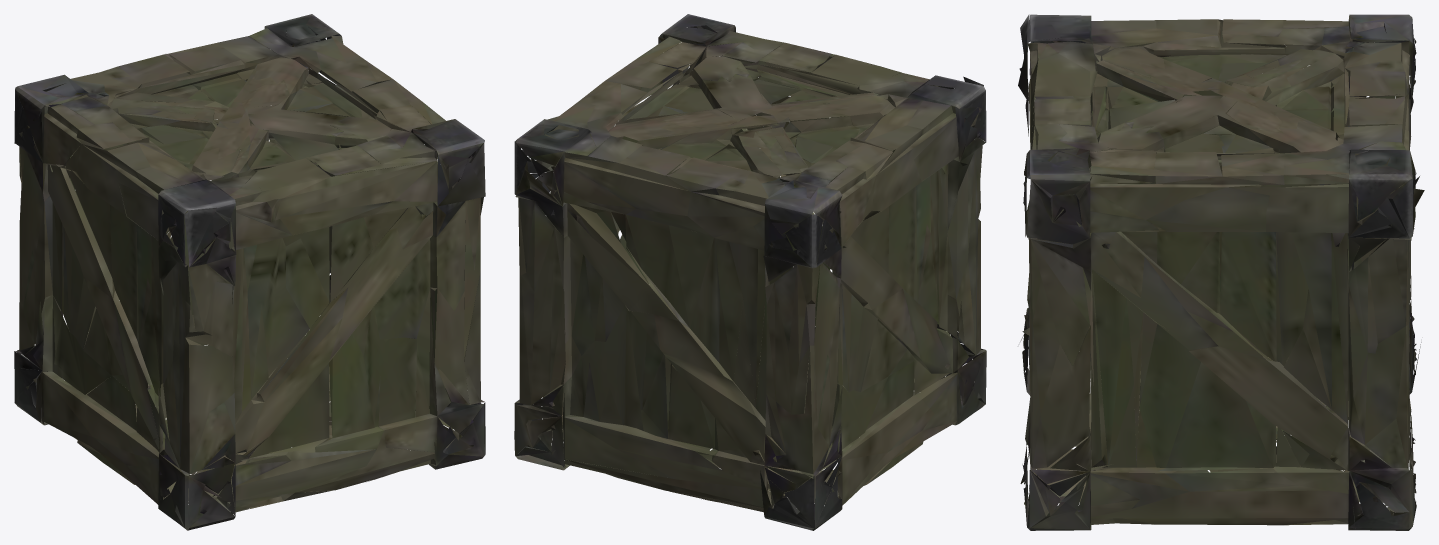
Rendered from crate_wood.glb.
3 views of the same model, side by side, from view 1: azimuth 30°, elevation 25°; view 2: azimuth 150°, elevation 25°; view 3: azimuth 270°, elevation 25° (orthographic). The views are drawn at different scales.
Parts seen in each view (by area): view 1: Mesh_0; view 2: Mesh_0; view 3: Mesh_0.
Boxes of the visible parts, left/top/right/bottom form: Mesh_0: left=14, top=14, right=485, bottom=530; Mesh_0: left=514, top=14, right=986, bottom=530; Mesh_0: left=1018, top=14, right=1424, bottom=530.
Bounding box in the file's own units: 1.93 × 1.93 × 1.97.
Materials: 1 (1 with a texture image).
